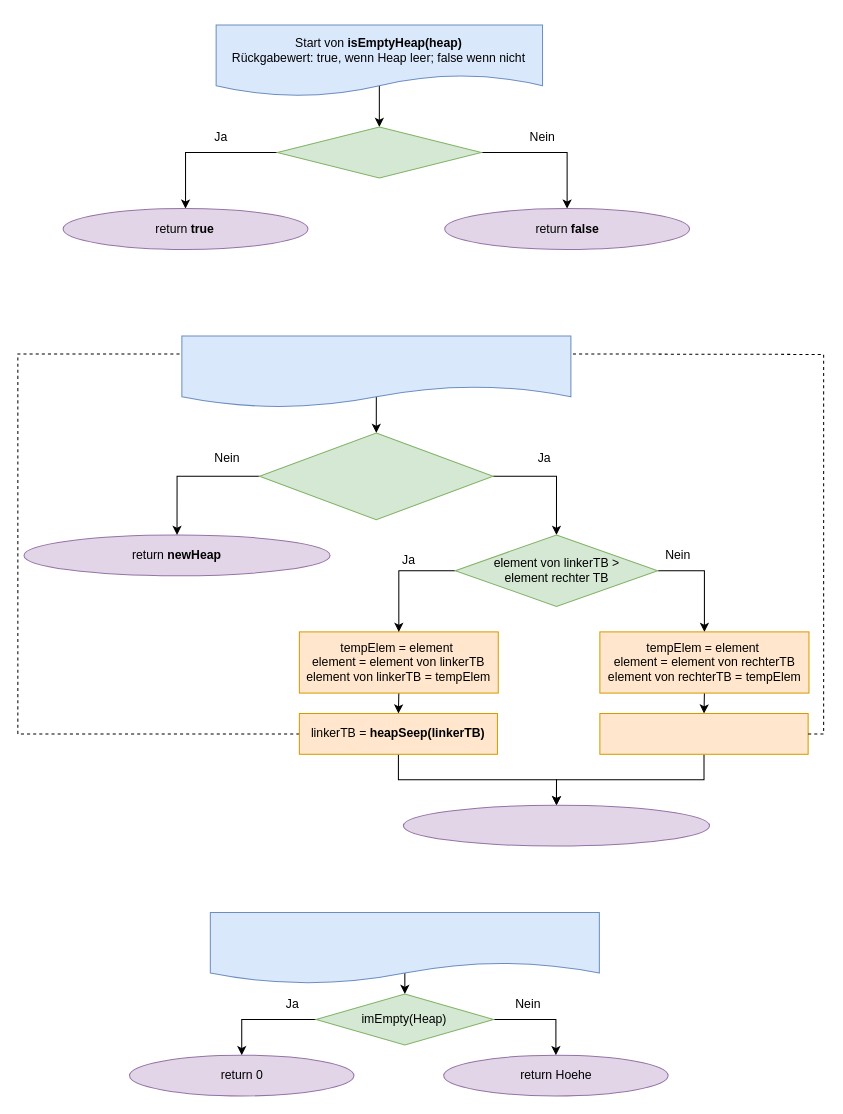
The diagram is 843 pixels wide and 1114 high, and some of its shapes have lost their labels. Each missing label, with the centre of its shape:
"element > max(element von linkerTB, element von rechterTB" goes at (x=375, y=476).
"heap == { }" goes at (x=378, y=152).
"rechterTB = heapSeep(rechterTB)" goes at (x=703, y=733).
"return {element, höhe, linkerTB, rechterTB}" goes at (x=556, y=825).
"Start von getHoehe(Heap) Rückgabewert: gibt die Hoehe des Heaps zurück" goes at (x=404, y=947).
"Start von heapSeep(newHeap) Rückgabewert: neu strukturierter Heap" goes at (x=376, y=371).
